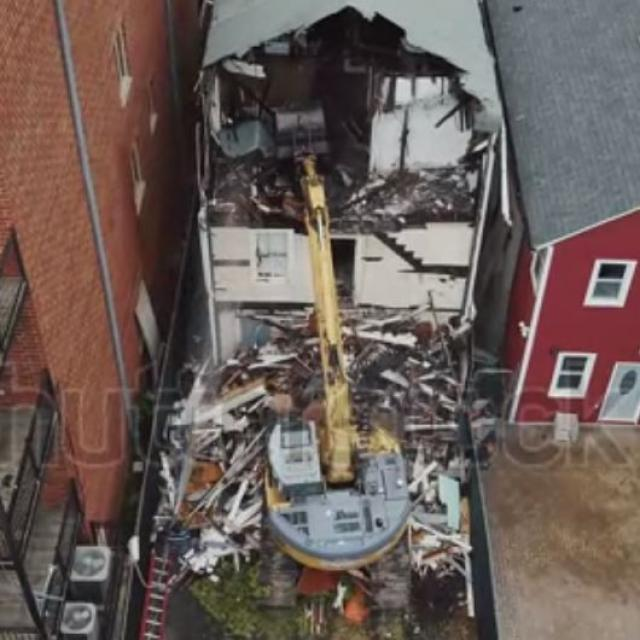collapsed_building: (192, 42, 496, 594)
